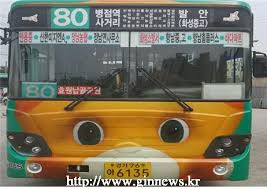bnum: (52, 7, 89, 26)
